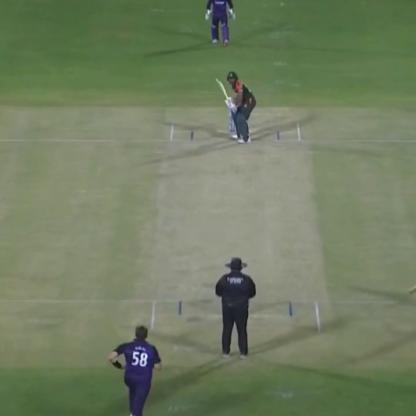bat: (209, 72, 235, 109)
pitch: (146, 116, 323, 332)
